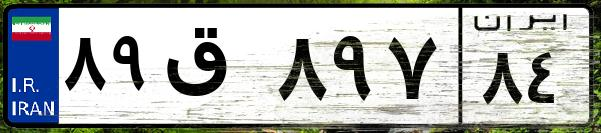4: (525, 38, 570, 115)
7: (385, 28, 445, 110)
8: (270, 28, 330, 110), (57, 26, 110, 100), (475, 38, 525, 113)
9: (330, 28, 385, 110), (110, 28, 158, 98)
ق: (158, 20, 270, 120)
